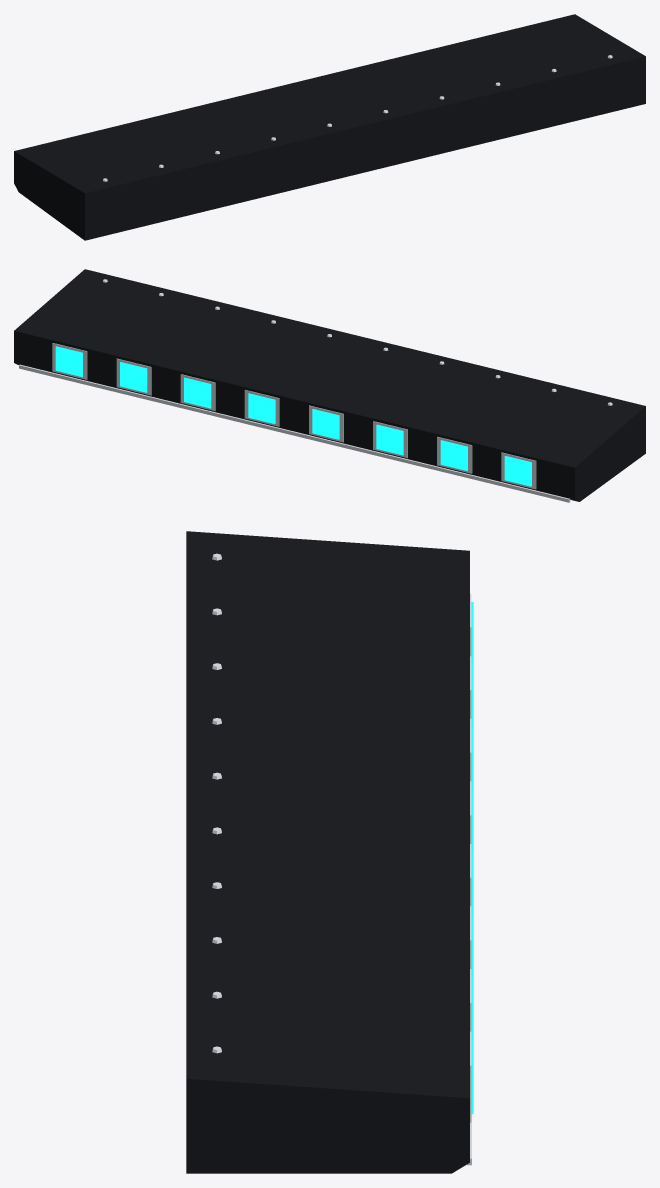
Rendered from visor_lamp_row.glb.
The picture shows the model from 3 angles, top to bottom: view 1: azimuth 30°, elevation 25°; view 2: azimuth 150°, elevation 25°; view 3: azimuth 270°, elevation 25°; orthographic projection. The views are drawn at different scales.
Visible parts, largest first — view 1: visor_lamp_row_deco_body; view 2: visor_lamp_row_deco_body, visor_lamp_row_chrome, visor_lamp_row_deco_neon; view 3: visor_lamp_row_deco_body, visor_lamp_row_chrome, visor_lamp_row_deco_neon.
Boxes of the visible parts, bbox=[...] form: visor_lamp_row_deco_body: bbox=[14, 14, 645, 240]; visor_lamp_row_deco_body: bbox=[14, 269, 645, 501]; visor_lamp_row_chrome: bbox=[19, 279, 612, 502]; visor_lamp_row_deco_neon: bbox=[55, 346, 531, 486]; visor_lamp_row_deco_body: bbox=[186, 531, 469, 1173]; visor_lamp_row_chrome: bbox=[212, 553, 471, 1165]; visor_lamp_row_deco_neon: bbox=[471, 602, 473, 1114].
Bounding box in the file's own units: 2.1 × 0.1755 × 0.466.
